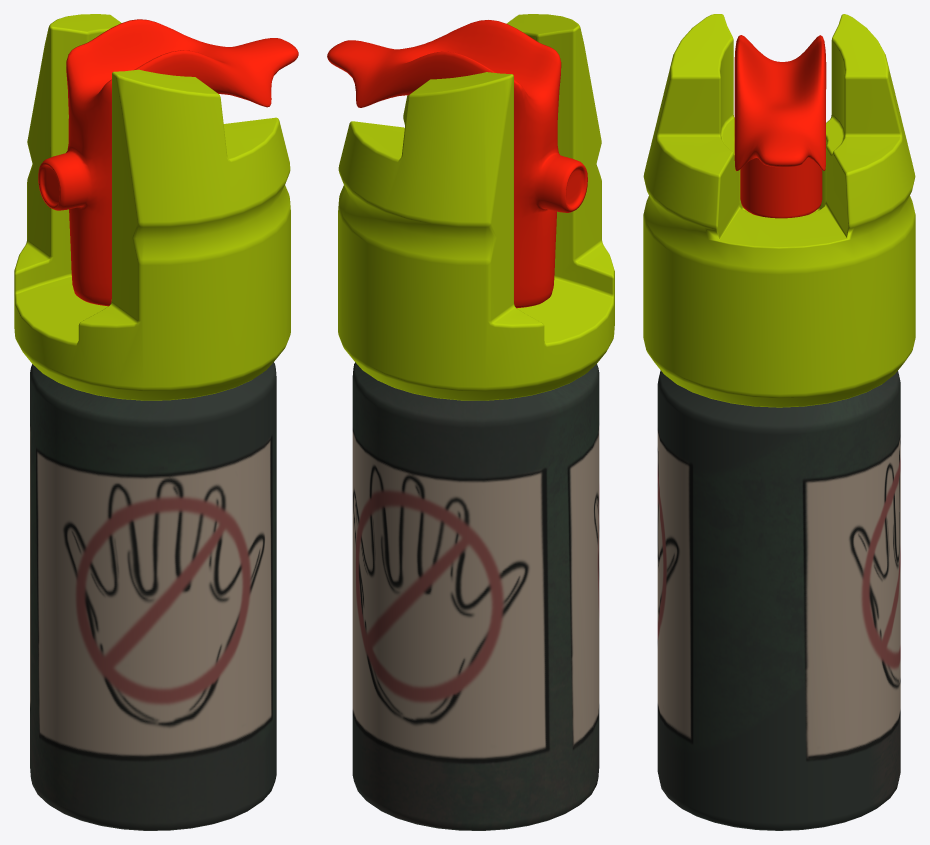
Rendered from SprayBottle.fbx.
The picture shows the model from 3 angles, left to right: view 1: azimuth 30°, elevation 25°; view 2: azimuth 150°, elevation 25°; view 3: azimuth 270°, elevation 25°; orthographic projection.
Visible parts, largest first — view 1: Pepper Spray Bottle, Pepper Spray, Pepper Spray Handle; view 2: Pepper Spray Bottle, Pepper Spray, Pepper Spray Handle; view 3: Pepper Spray Bottle, Pepper Spray, Pepper Spray Handle.
Boxes of the visible parts, left/top/right/bottom form: Pepper Spray Bottle: left=30, top=362, right=276, bottom=830; Pepper Spray: left=14, top=14, right=290, bottom=400; Pepper Spray Handle: left=38, top=19, right=298, bottom=306; Pepper Spray Bottle: left=352, top=362, right=599, bottom=830; Pepper Spray: left=338, top=14, right=614, bottom=400; Pepper Spray Handle: left=327, top=20, right=587, bottom=308; Pepper Spray Bottle: left=657, top=370, right=900, bottom=830; Pepper Spray: left=643, top=14, right=915, bottom=407; Pepper Spray Handle: left=734, top=35, right=826, bottom=218.
Size of the model in its own units: 70.4 by 191 by 64.36.
Materials: 3 (1 with a texture image).
